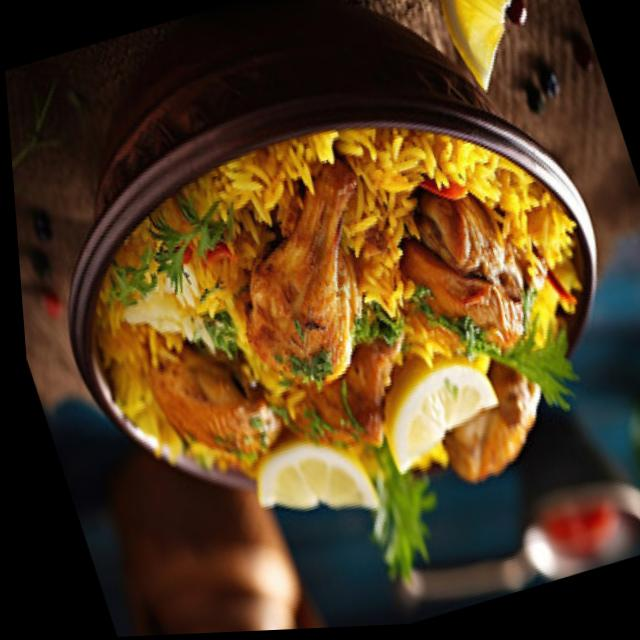BIRIYANI: (99, 133, 579, 478)
